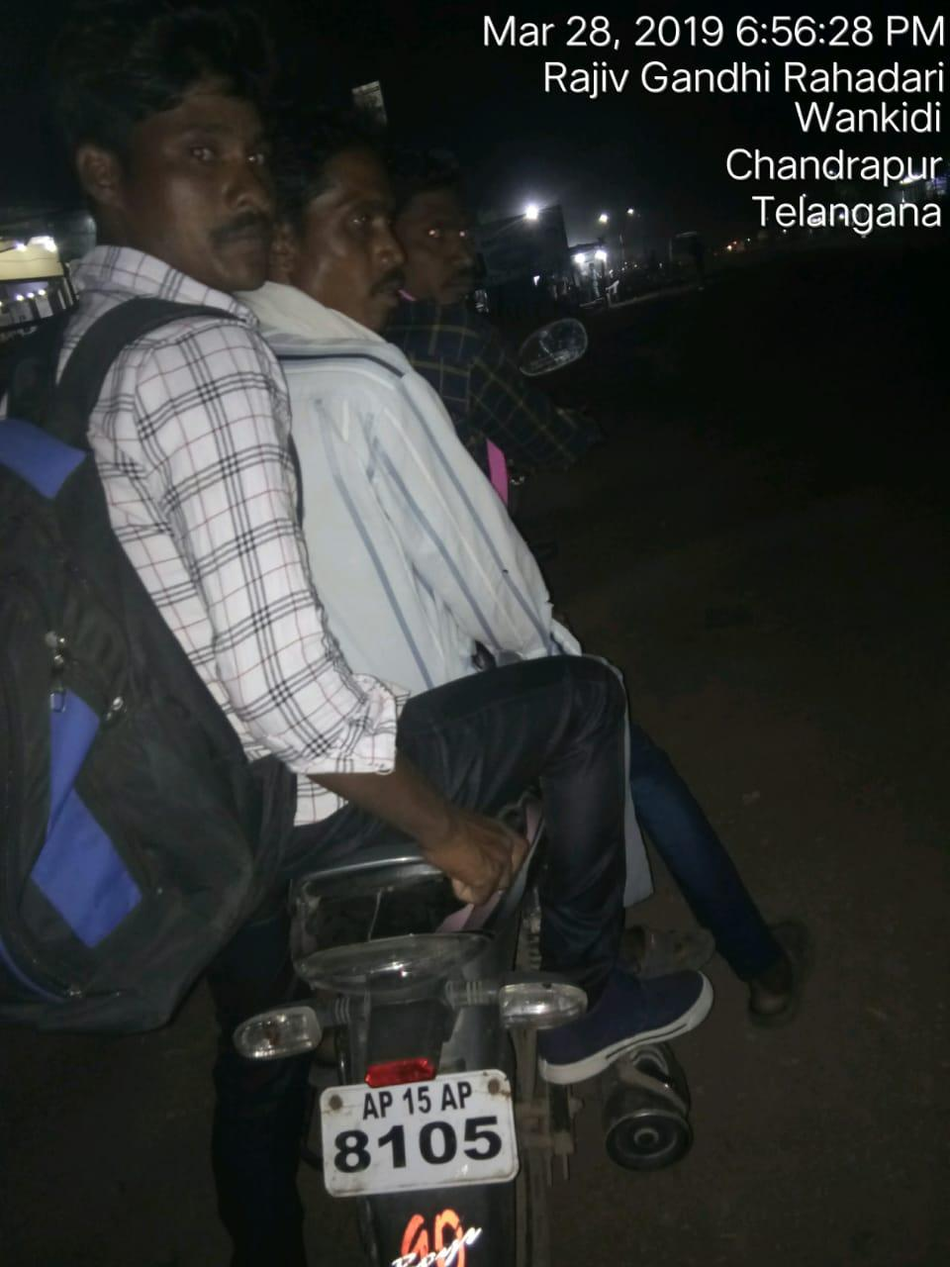plate: (307, 1057, 542, 1213)
